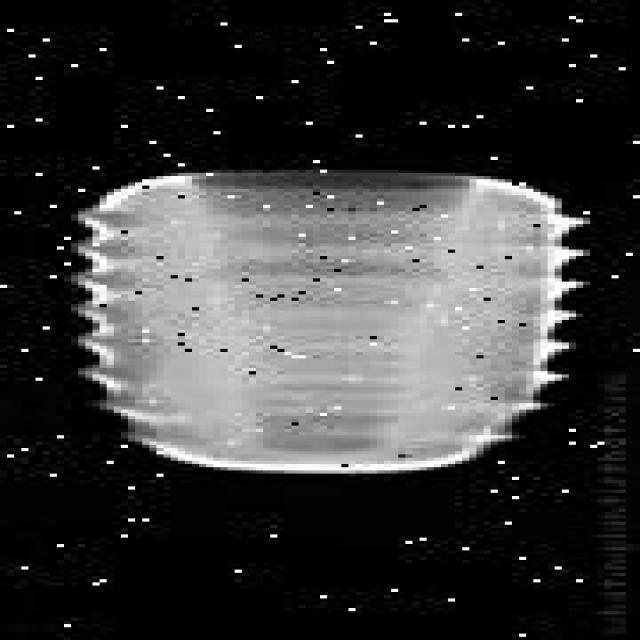Titan Implant Implant: (65, 163, 585, 488)
